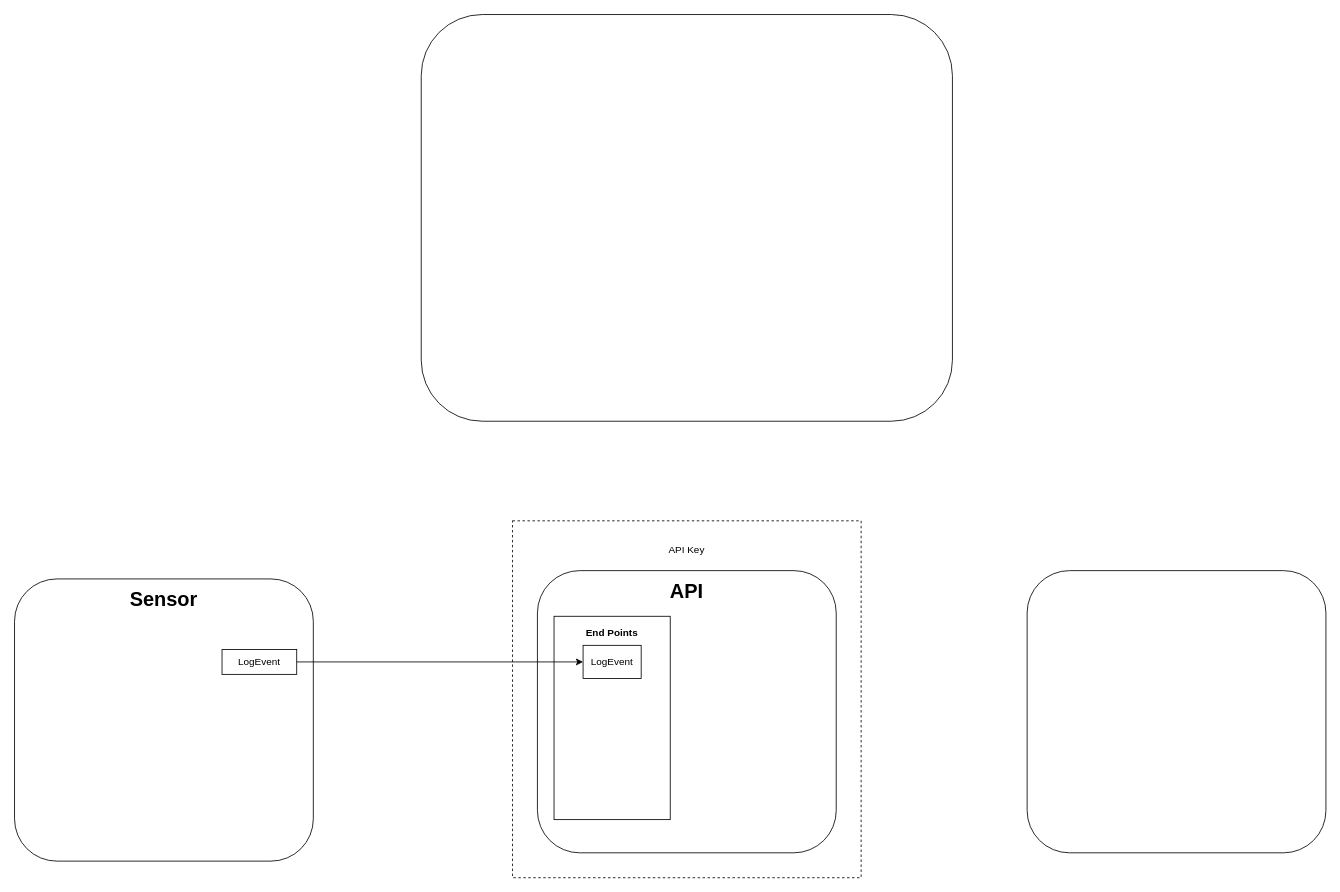
This 1340x892 diagram has some shape labels left out. The shapes that lost their labels are listed below. From the top down, each one's centre as x and y in pixels, then its label:
At [686,217]: "Dashboard".
At [1176,711]: "Database".
